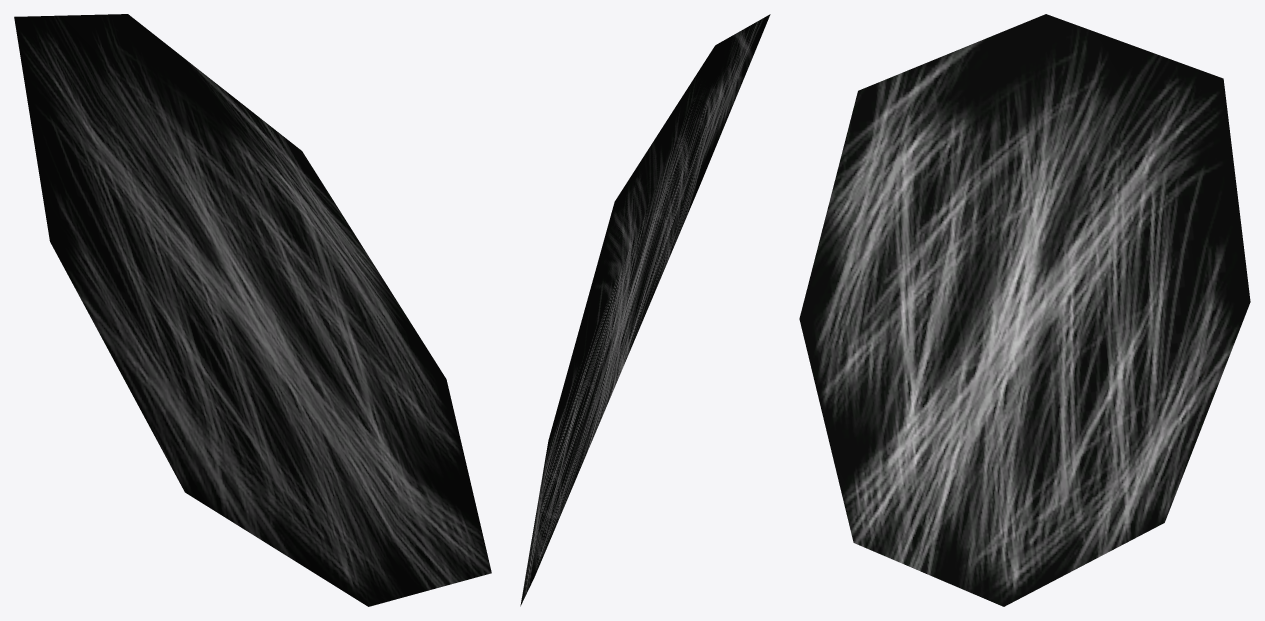
File: MIRKWOOD_SPIDERWEB_COVERS01.fbx
The picture shows the model from 3 angles, left to right: view 1: azimuth 30°, elevation 25°; view 2: azimuth 150°, elevation 25°; view 3: azimuth 270°, elevation 25°; orthographic projection. The views are drawn at different scales.
Parts seen in each view (by area): view 1: MIRKWOOD_SPIDERWEB_COVERS01; view 2: MIRKWOOD_SPIDERWEB_COVERS01; view 3: MIRKWOOD_SPIDERWEB_COVERS01.
Part boxes in pixels (x1=…): MIRKWOOD_SPIDERWEB_COVERS01: x1=14, y1=14, x2=491, y2=606; MIRKWOOD_SPIDERWEB_COVERS01: x1=520, y1=14, x2=770, y2=606; MIRKWOOD_SPIDERWEB_COVERS01: x1=799, y1=14, x2=1250, y2=606.
Bounding box in the file's own units: 10844 × 25982 × 20909.
Materials: 1 (1 with a texture image).
